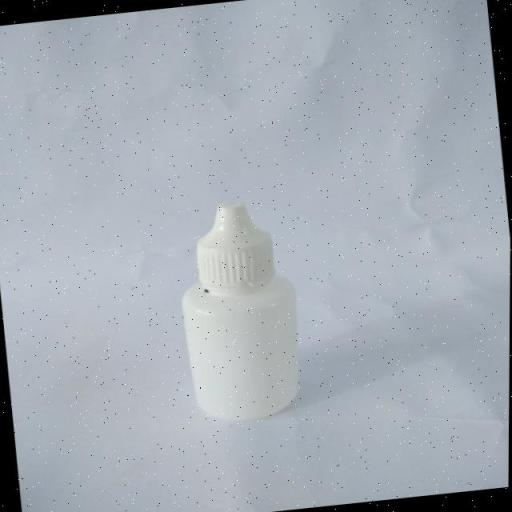plastic: (165, 186, 324, 440)
